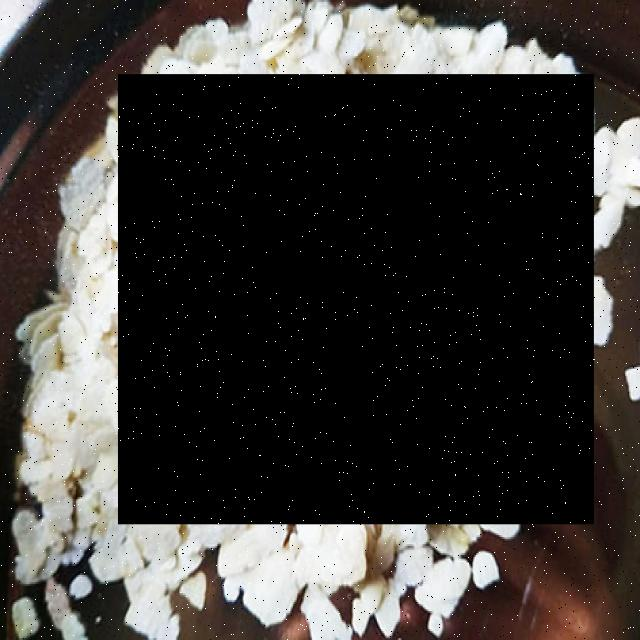Beaten_Rice: (118, 74, 594, 525)
